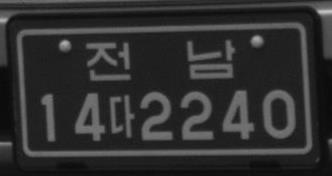0: (261, 87, 297, 140)
1: (35, 92, 63, 143)
2: (179, 90, 215, 141), (139, 89, 173, 142)
4: (221, 88, 255, 140), (72, 91, 105, 141)
다: (107, 93, 135, 139)
전남_D: (85, 38, 236, 82)
